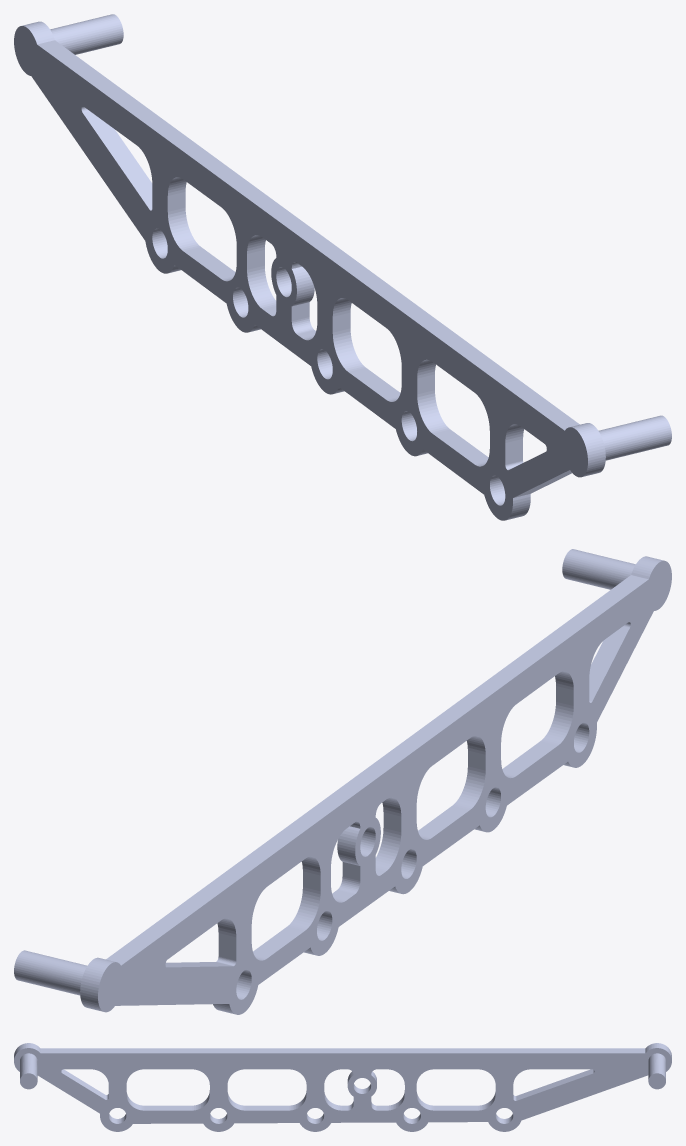
File: Perfil_IzquierdoV1.1.dae
3 views of the same model, one above another, from view 1: azimuth 30°, elevation 25°; view 2: azimuth 150°, elevation 25°; view 3: azimuth 270°, elevation 25° (orthographic). The views are drawn at different scales.
Parts seen in each view (by area): view 1: ID2; view 2: ID2; view 3: ID2.
Part boxes in pixels (<box>): ID2: <box>14,14,671,520</box>; ID2: <box>14,549,671,1014</box>; ID2: <box>14,1043,671,1131</box>.
Size of the model in its own units: 0.05 by 0.5579 by 0.0785.
